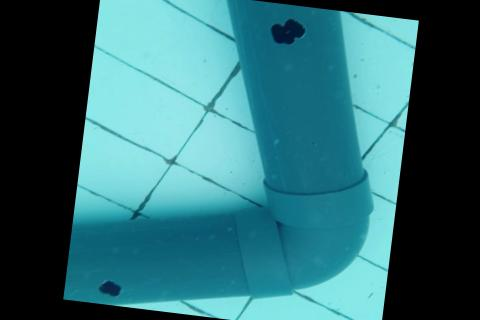kebocoran: (265, 15, 306, 49), (95, 279, 123, 298)
